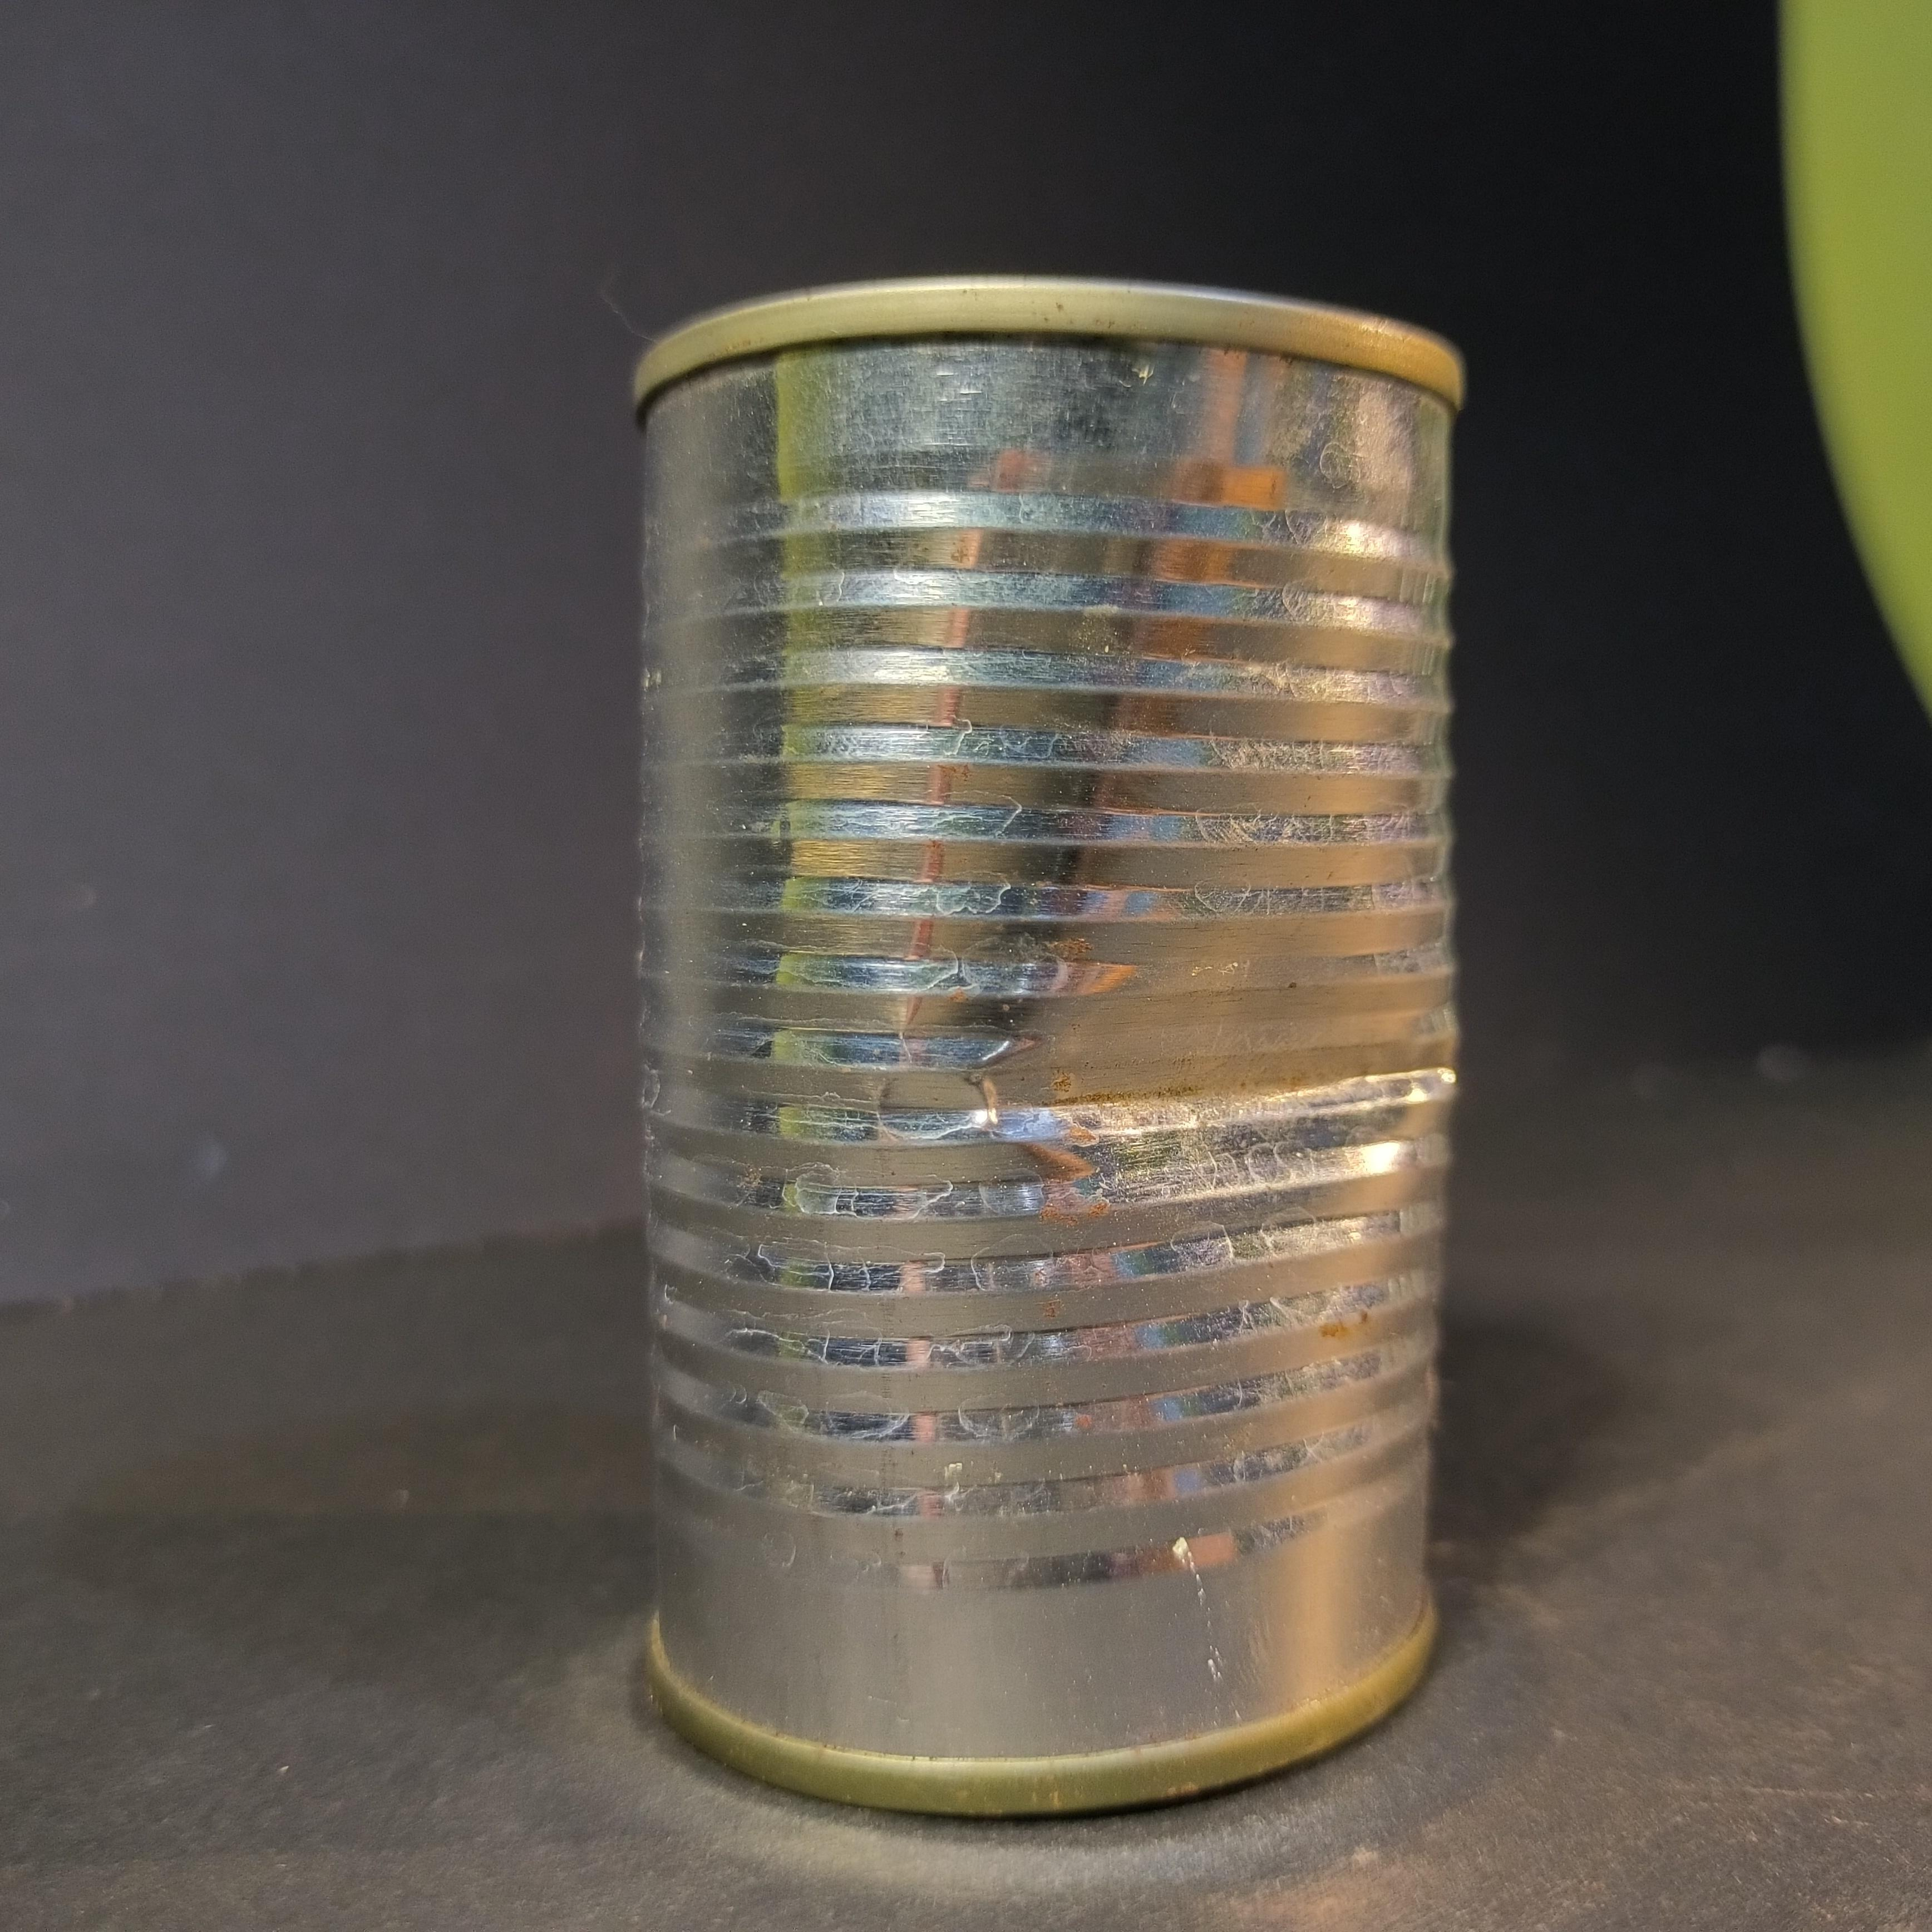Dented: (609, 267, 1491, 1833)
